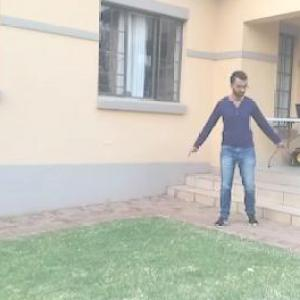land: (186, 75, 286, 232)
